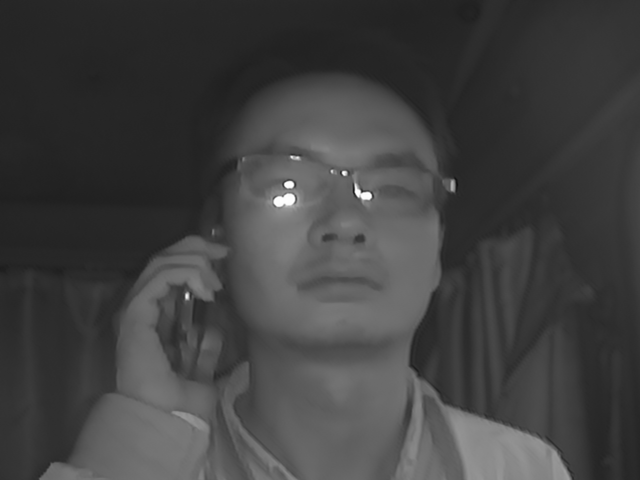hand: (103, 235, 234, 421)
